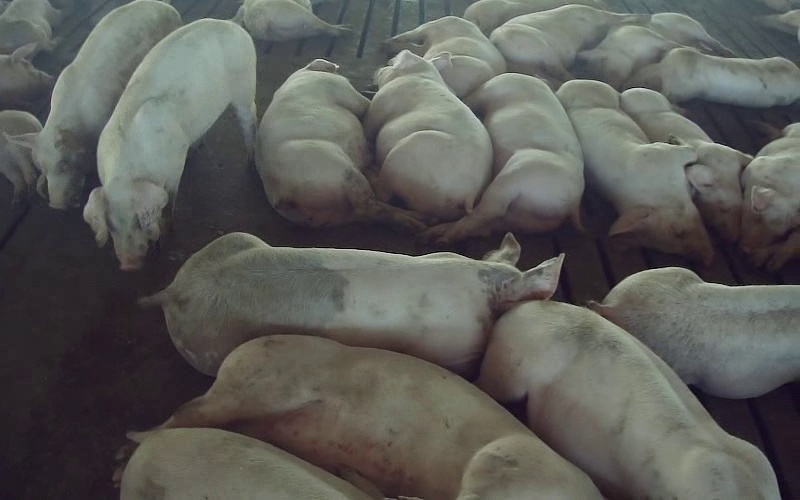pig: (165, 335, 600, 499), (141, 233, 562, 376), (479, 300, 779, 499), (84, 19, 256, 269), (557, 80, 712, 263), (256, 60, 421, 229), (589, 267, 799, 398), (426, 73, 583, 242), (364, 50, 492, 220), (620, 88, 751, 242), (490, 5, 648, 87), (573, 13, 731, 89), (626, 47, 799, 106), (386, 16, 505, 98), (740, 123, 799, 254)
